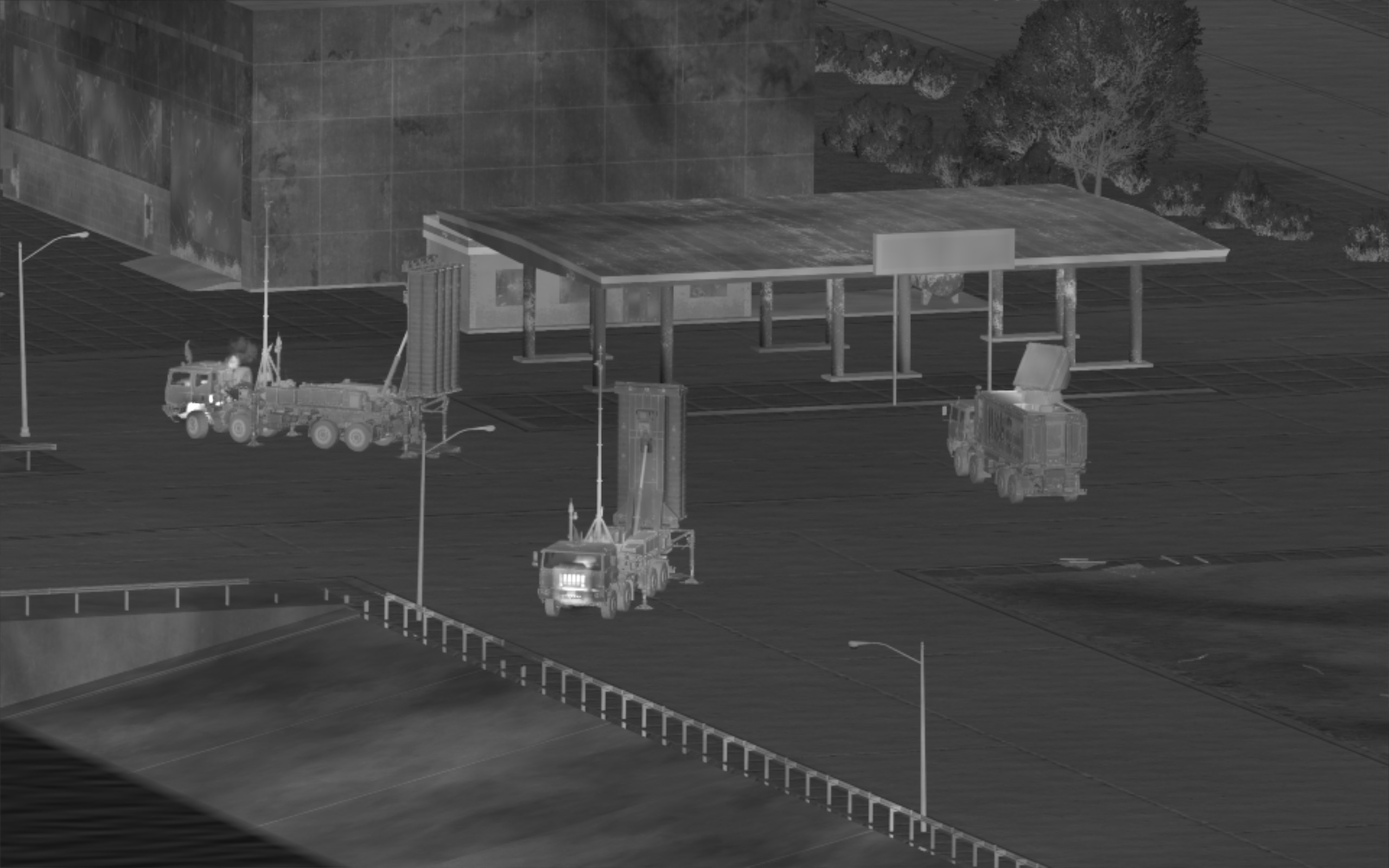spaa_TEL: (161, 260, 467, 453), (531, 380, 699, 619)
spaa_tads: (940, 341, 1089, 504)
